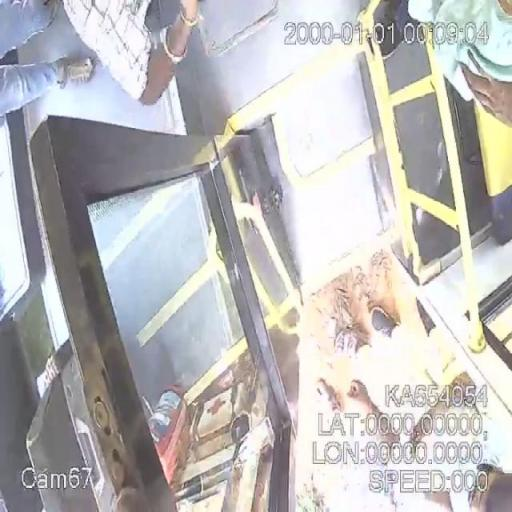persona: (328, 309, 512, 512), (1, 0, 203, 119), (406, 0, 512, 128)
